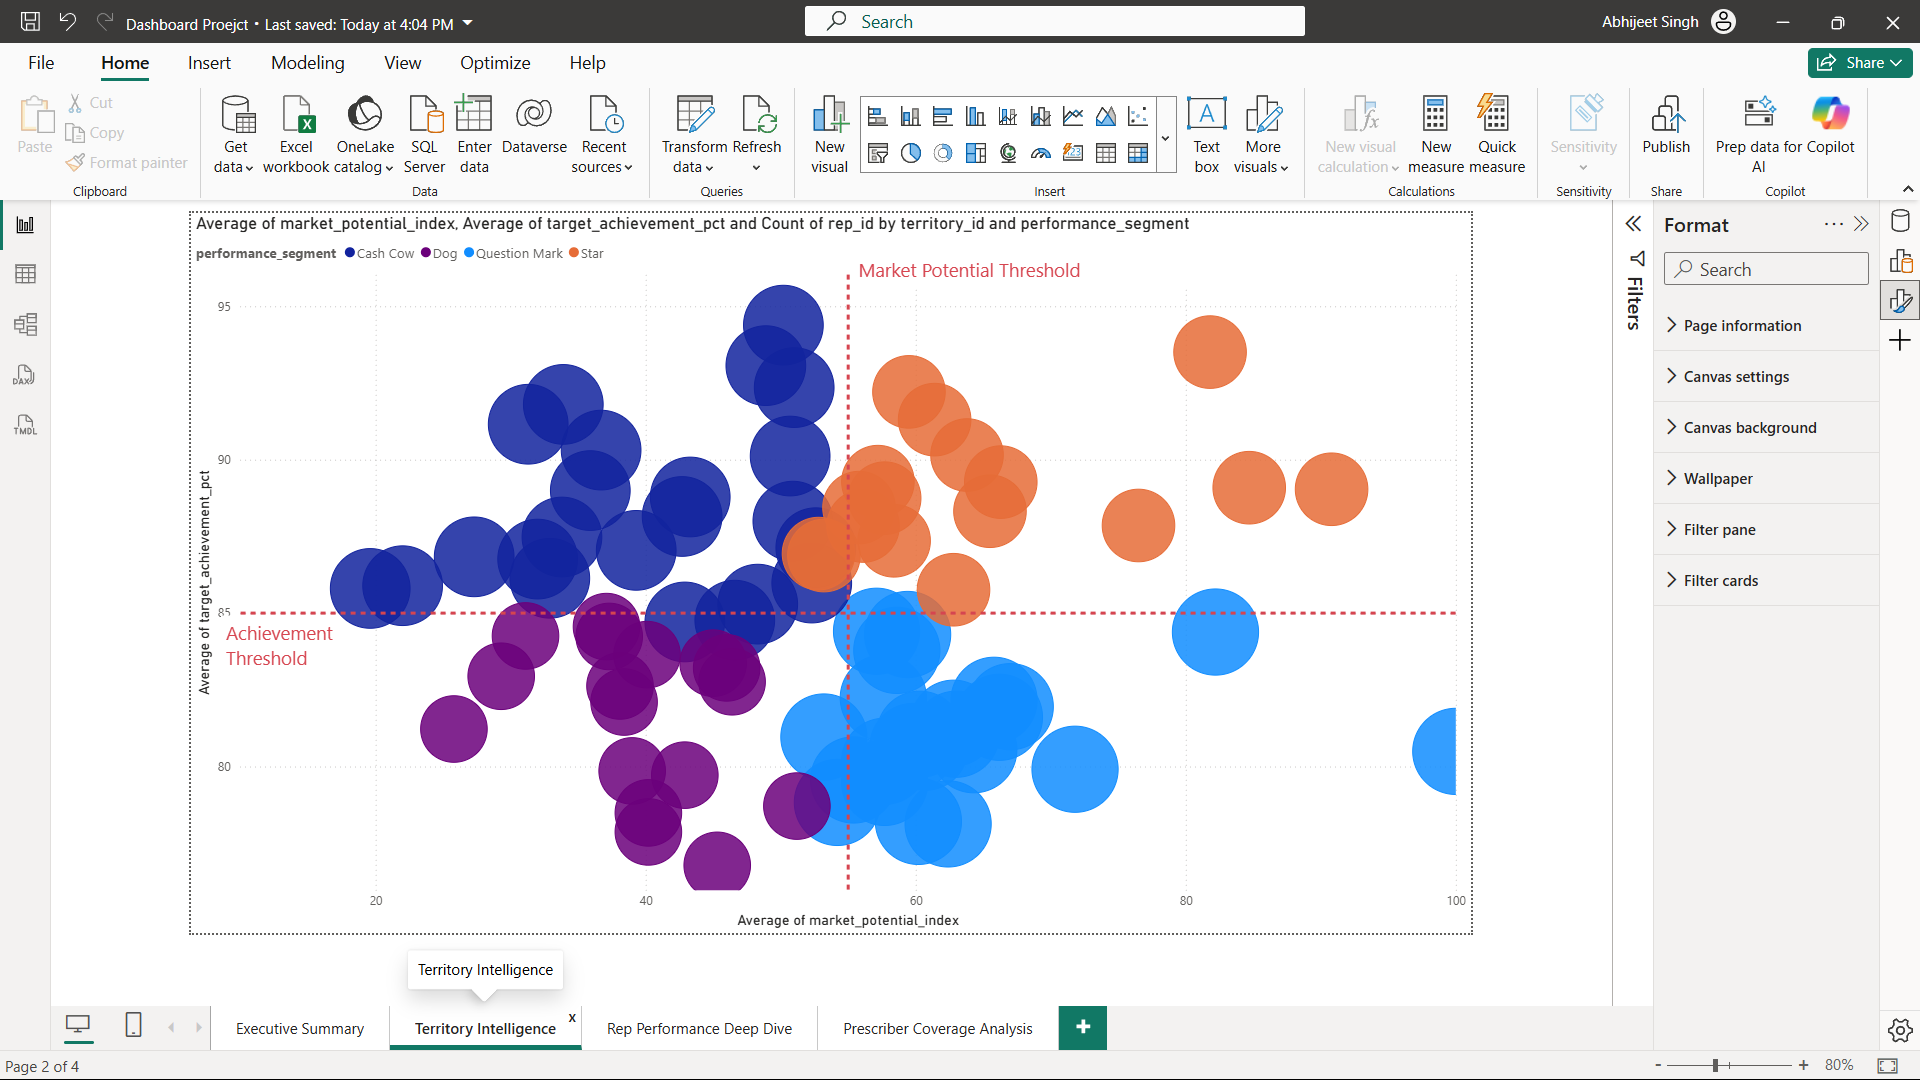

Layout of this report page (visuals, bound fields, positions):
{"tool":"powerbi","page":{"name":"Territory Intelligence","canvas":[1280,720],"ordinal":1},"visuals":[{"type":"scatterChart","fields":{"X":["Avg(territories_dim.market_potential_index)"],"Y":["Avg(sales_fact.target_achievement_pct)"],"Series":["reps_dim.performance_segment"],"Size":["CountNonNull(reps_dim.rep_id)"],"Category":["territories_dim.territory_id"]},"box":[0,0,1280,720],"z":0},{"type":"textbox","box":[662.5,38.8,340,35],"z":1000},{"type":"textbox","box":[30,402.5,117.5,97.5],"z":2000}]}

Visuals, with their boxes on the page's 1280x720 design canvas (x1, y1, x2, y2). These are canvas units, not pixel positions in the 1920x1080 screenshot, which may show the page scaled, cropped or inside an application window:
scatterChart - Avg(territories_dim.market_potential_index) x Avg(sales_fact.target_achievement_pct): {"x1": 0, "y1": 0, "x2": 1280, "y2": 720}
textbox: {"x1": 662, "y1": 39, "x2": 1002, "y2": 74}
textbox: {"x1": 30, "y1": 402, "x2": 148, "y2": 500}
